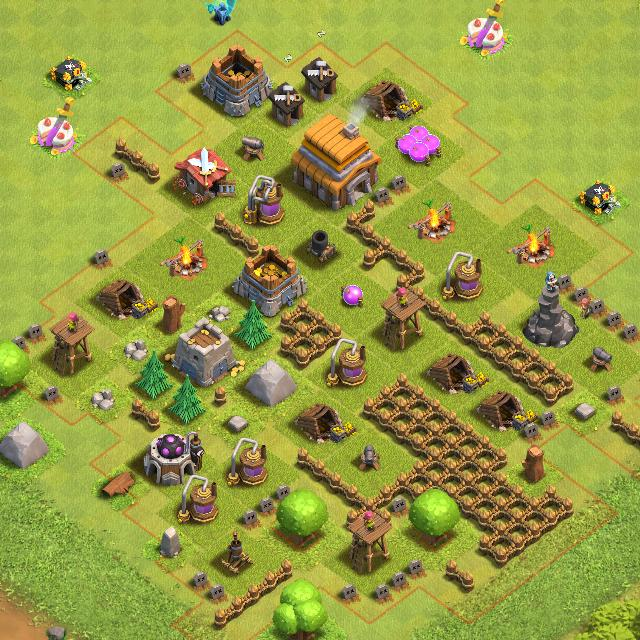Arqueira: (344, 512, 395, 570), (52, 313, 92, 377), (383, 288, 425, 348)
Canhao: (235, 132, 267, 164), (355, 444, 383, 476), (589, 346, 616, 376)
